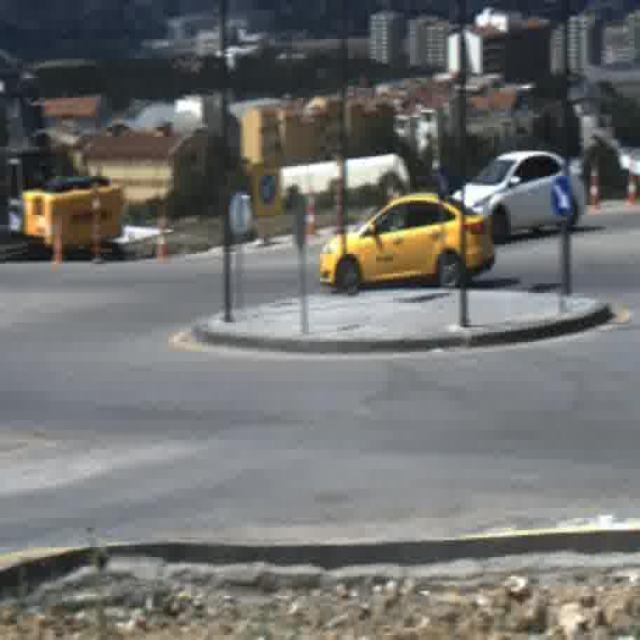Car: (316, 191, 492, 288), (449, 151, 583, 237)
